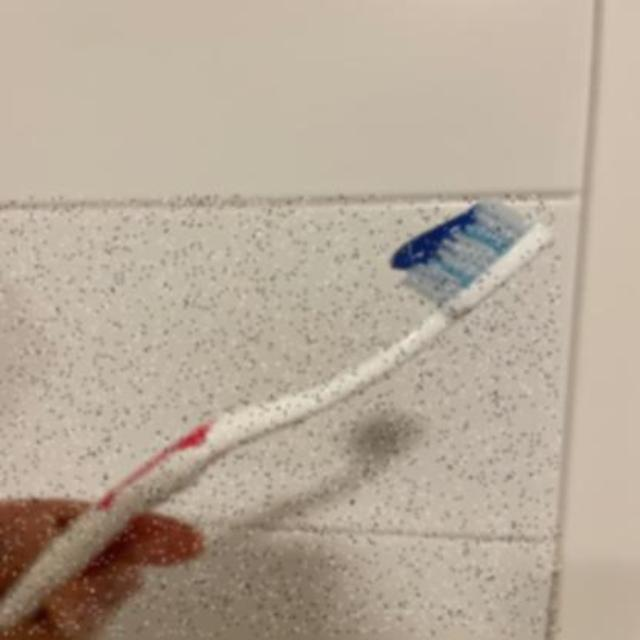toothbrush: (0, 195, 560, 635)
